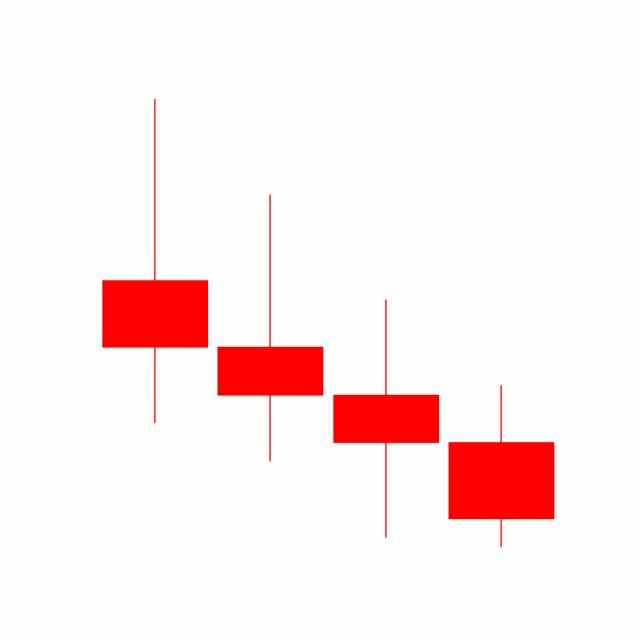Spinning Top: (329, 297, 445, 542)
